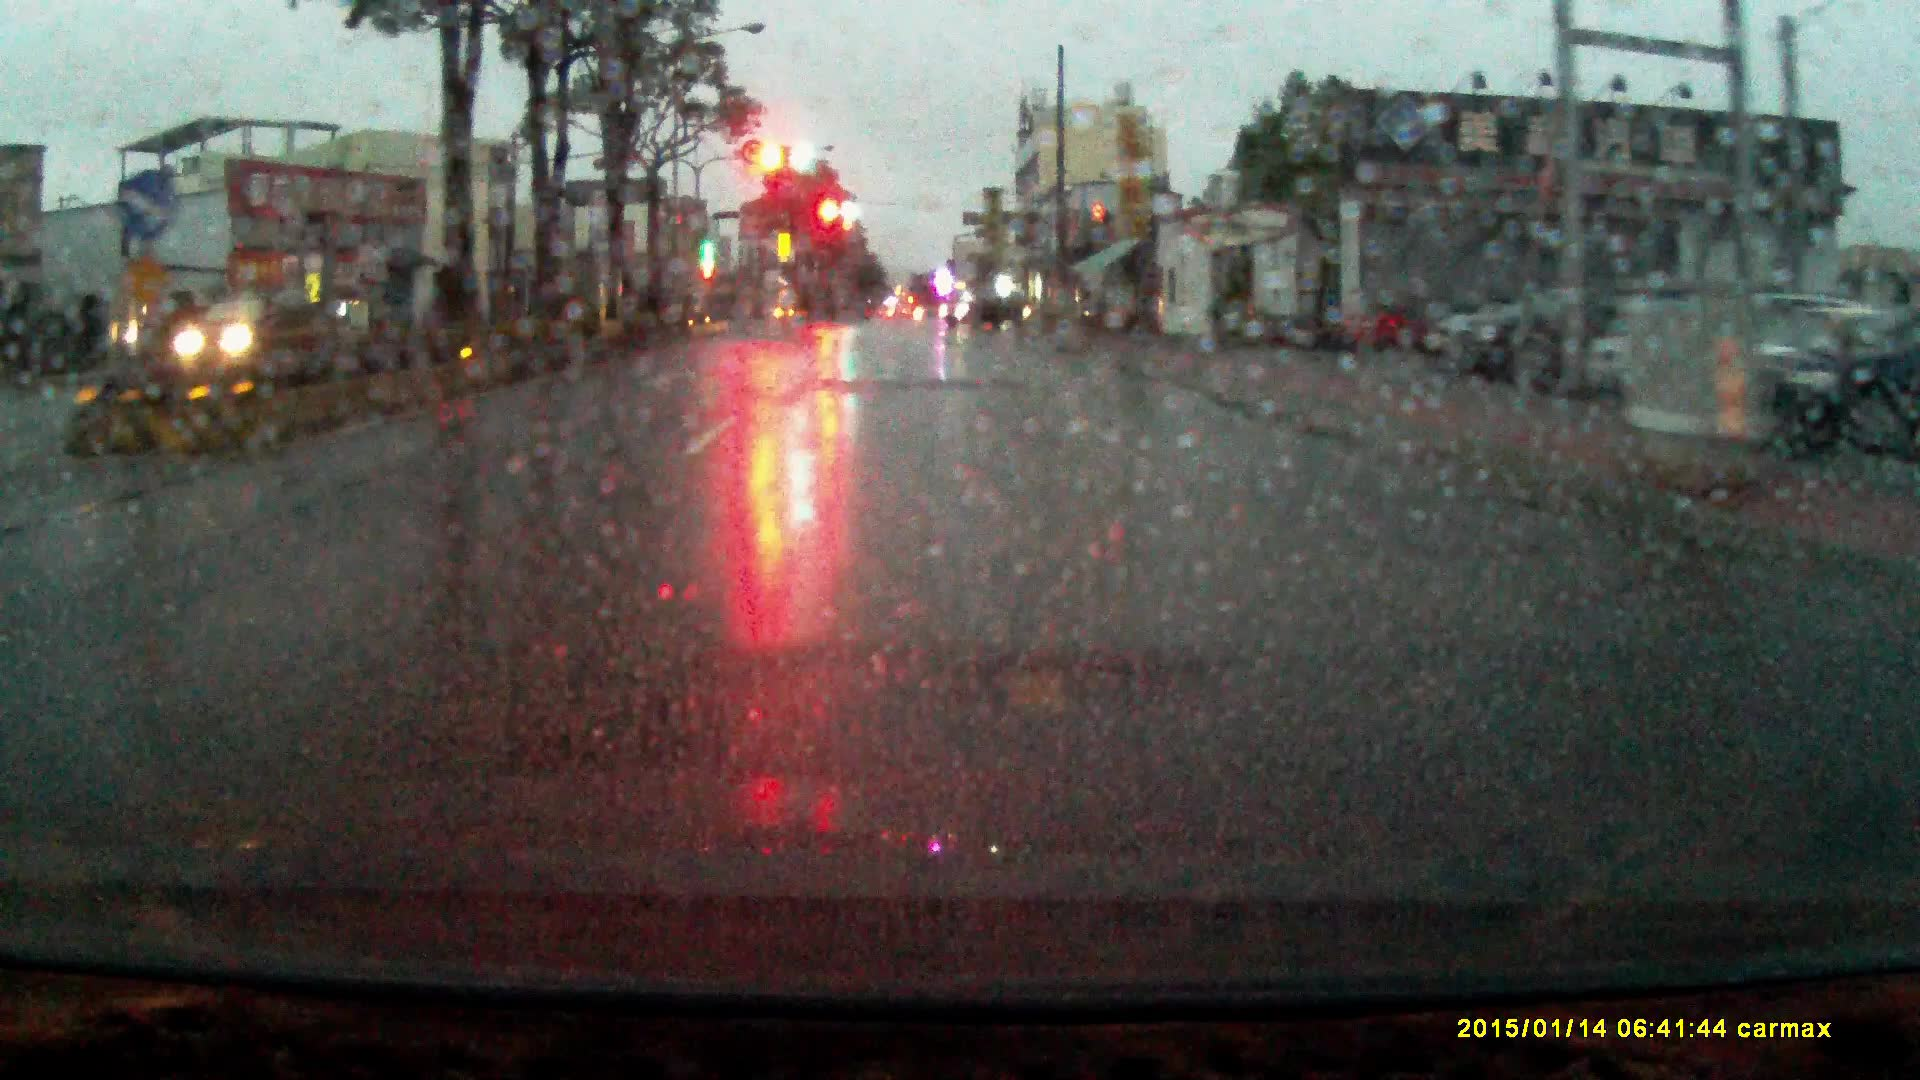vehicle: (1435, 289, 1681, 400), (175, 295, 295, 368), (940, 287, 1025, 334)
